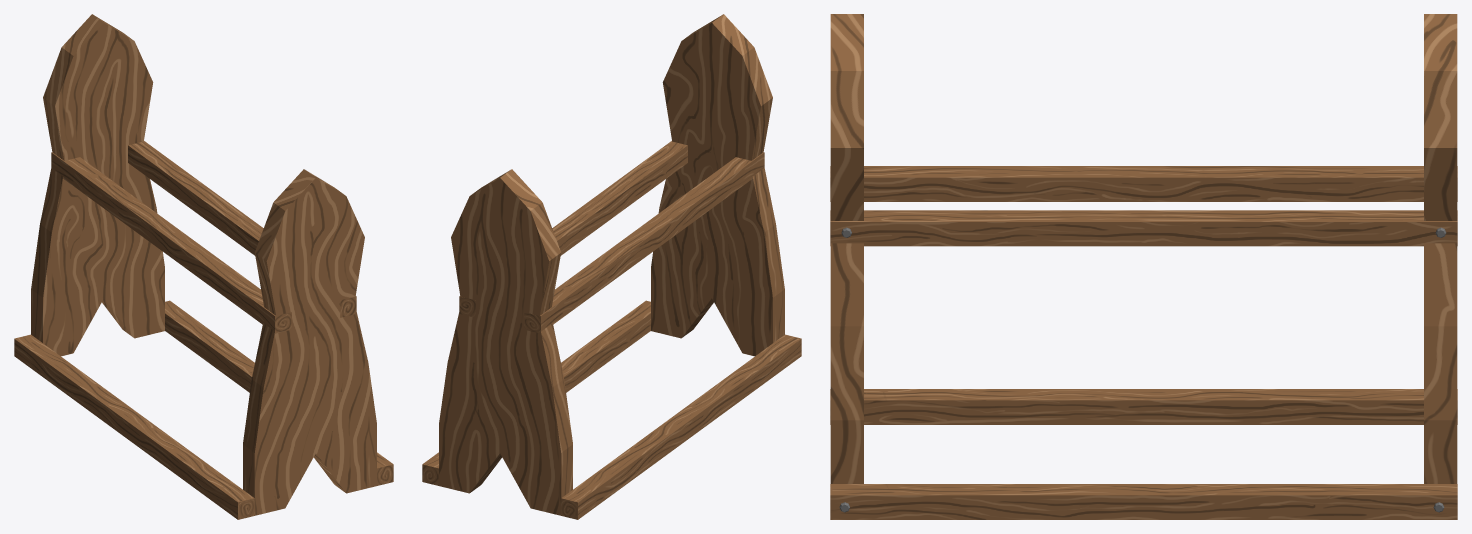
File: SwordStand.fbx
3 views of the same model, side by side, from view 1: azimuth 30°, elevation 25°; view 2: azimuth 150°, elevation 25°; view 3: azimuth 270°, elevation 25° (orthographic). The views are drawn at different scales.
Parts seen in each view (by area): view 1: Cube.003; view 2: Cube.003; view 3: Cube.003.
Boxes of the visible parts, left/top/right/bottom form: Cube.003: left=14, top=14, right=393, bottom=519; Cube.003: left=422, top=14, right=801, bottom=519; Cube.003: left=830, top=14, right=1457, bottom=519.
Size of the model in its own units: 131 by 257 by 322.
